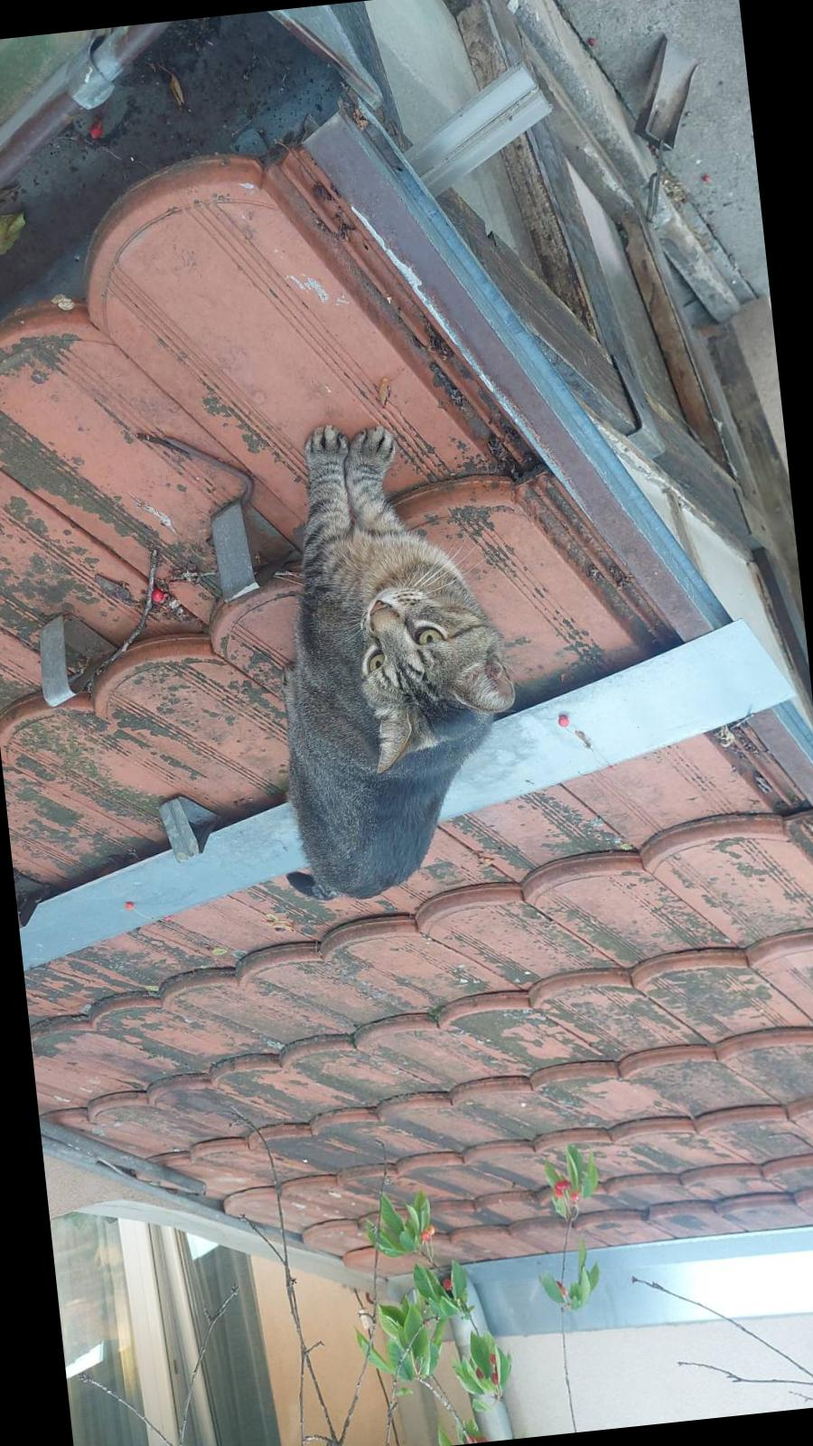macka: (241, 408, 529, 904)
